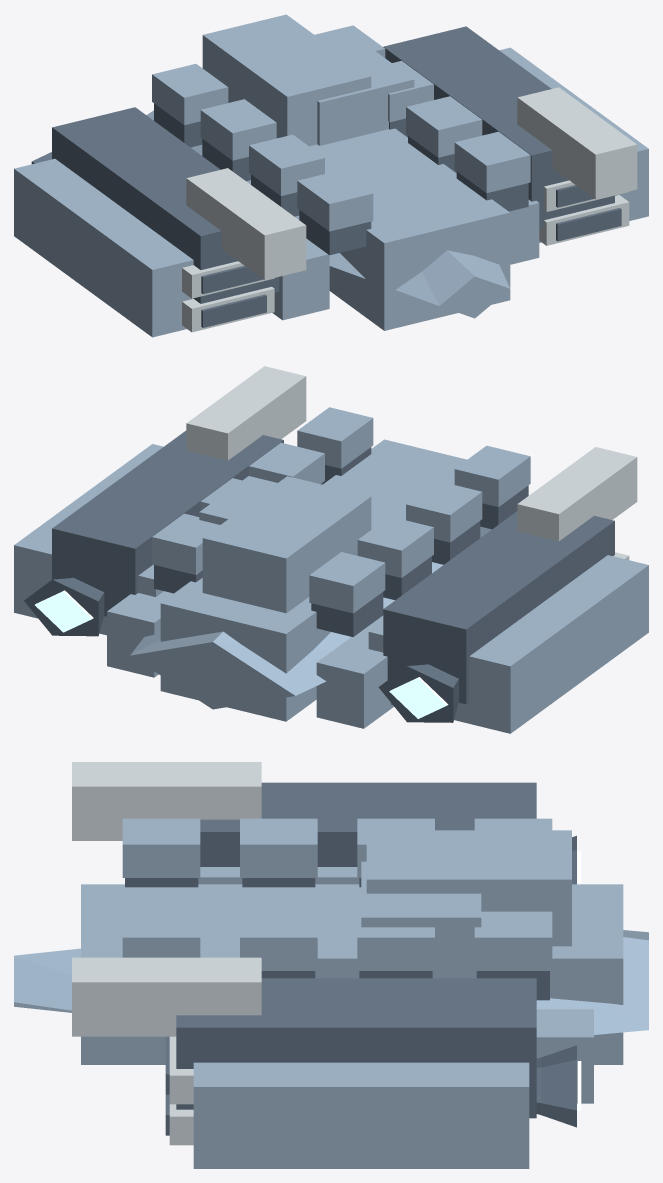
The picture shows the model from 3 angles, top to bottom: view 1: azimuth 30°, elevation 25°; view 2: azimuth 150°, elevation 25°; view 3: azimuth 270°, elevation 25°; orthographic projection. The views are drawn at different scales.
Bounding box in the file's own units: 18.95 × 5.94 × 17.32.
